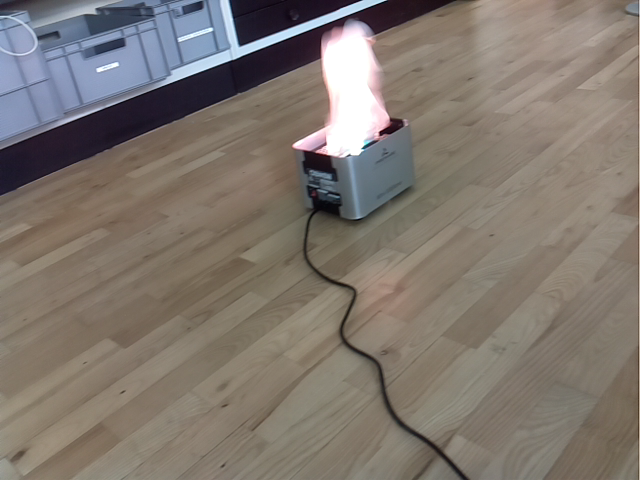fire: (321, 20, 391, 158)
